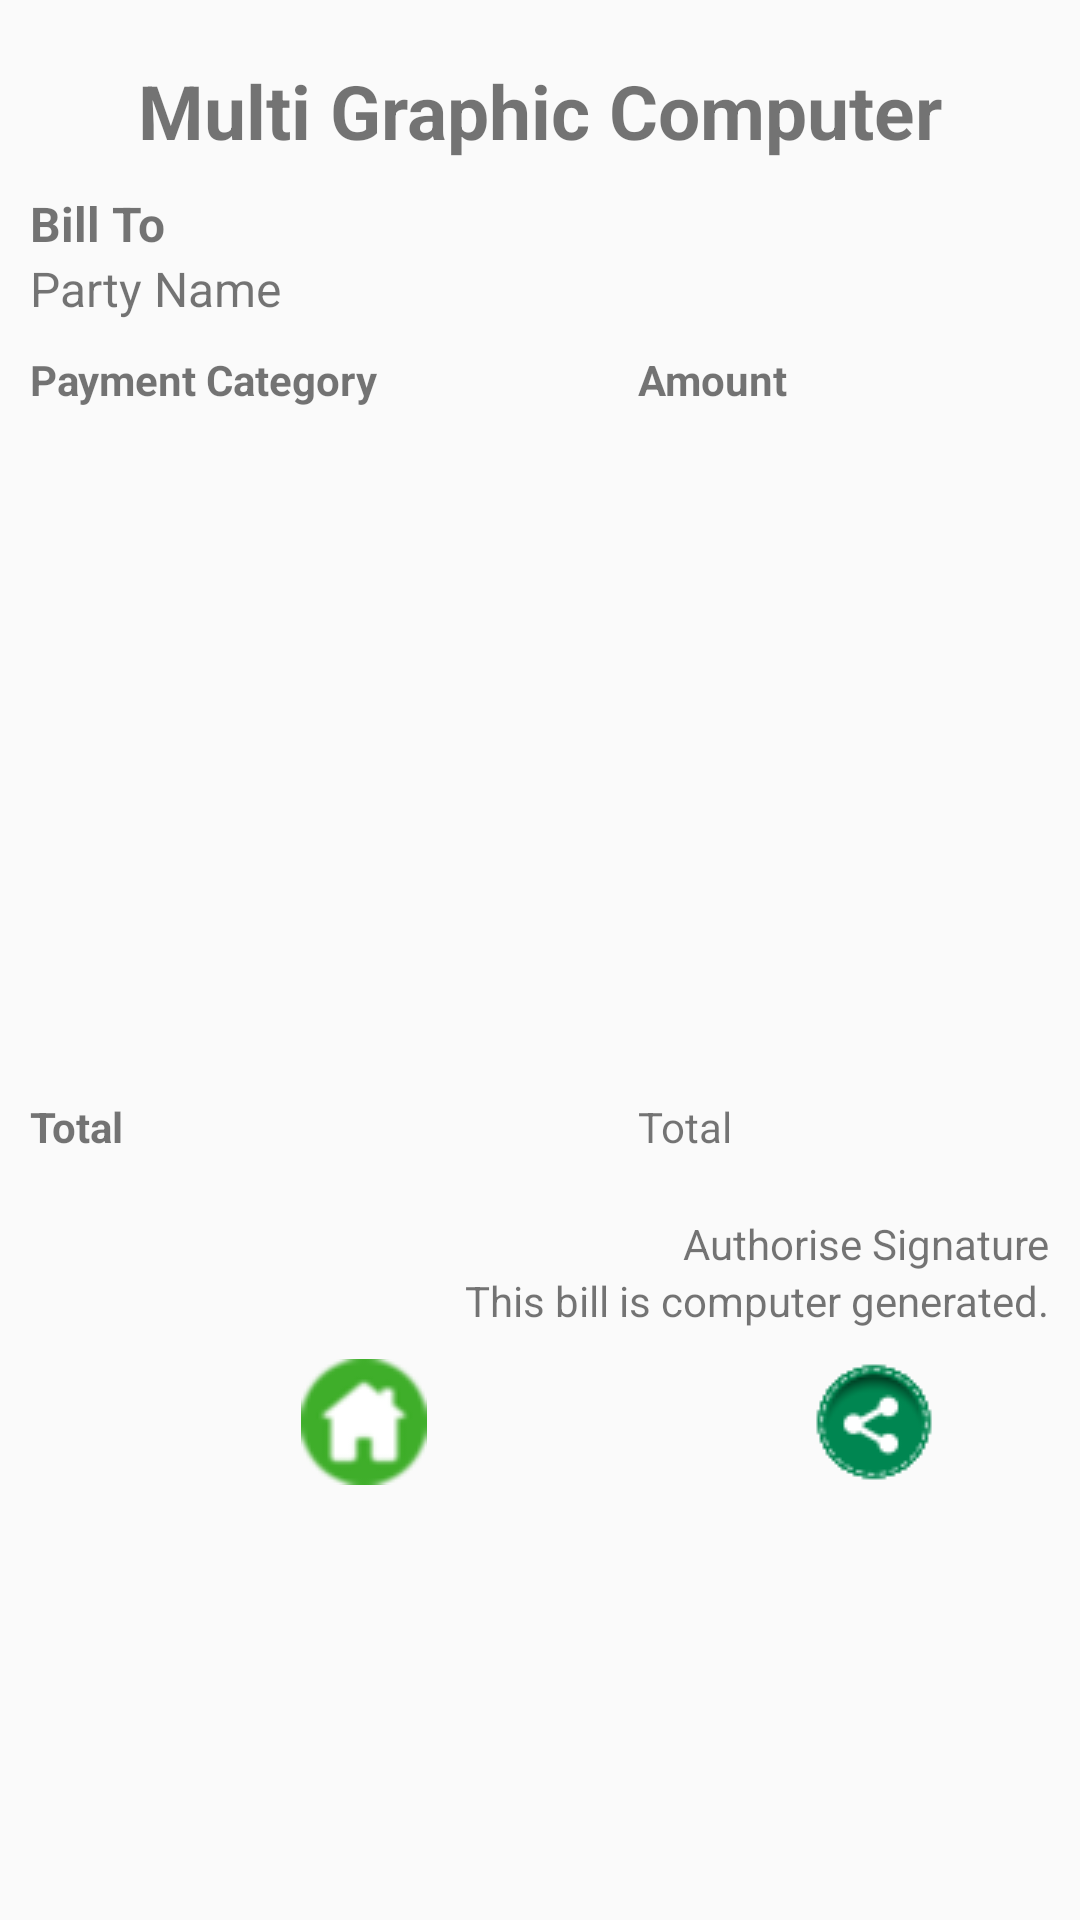

Icons on this 1080 x 1920 Android screen, each with the point to tap as [x,y]:
homeicon: [364,1422]
